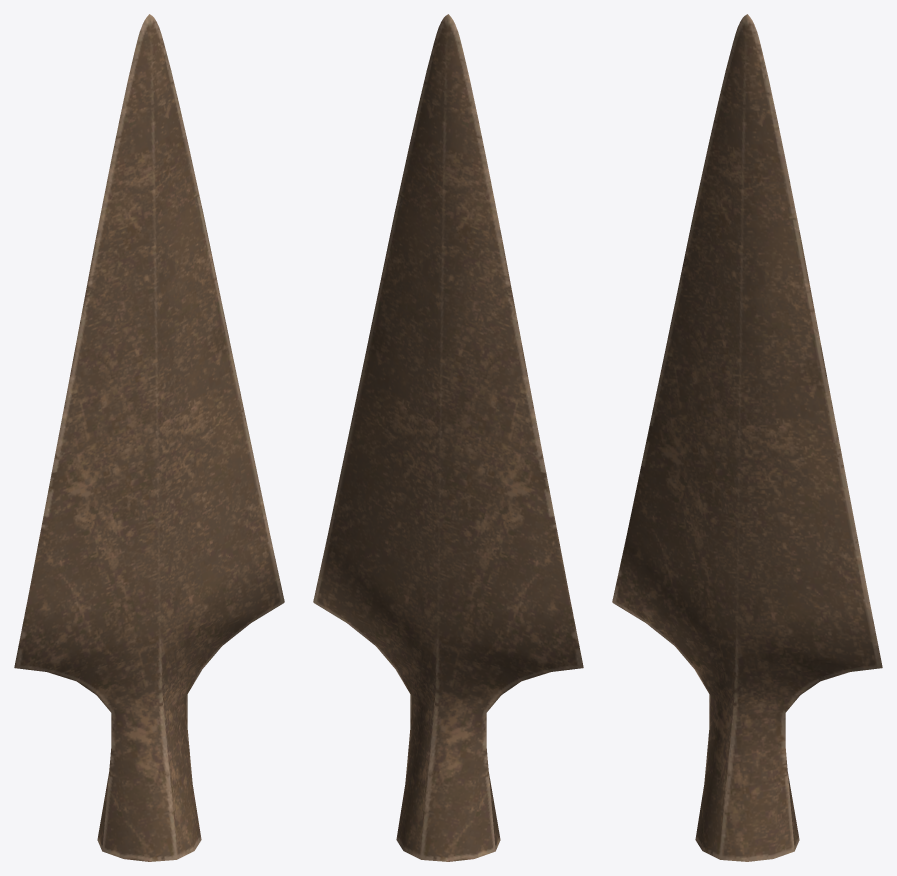
Rendered from dunland_caerdh_spear_head_d.fbx.
The picture shows the model from 3 angles, left to right: view 1: azimuth 30°, elevation 25°; view 2: azimuth 150°, elevation 25°; view 3: azimuth 330°, elevation 25°; orthographic projection.
Visible parts, largest first — view 1: dunland_caerdh_spear_head_d; view 2: dunland_caerdh_spear_head_d; view 3: dunland_caerdh_spear_head_d.
Part boxes in pixels (box(x1,y1,x2,y2)): dunland_caerdh_spear_head_d: box(14, 14, 284, 861); dunland_caerdh_spear_head_d: box(313, 14, 583, 861); dunland_caerdh_spear_head_d: box(612, 14, 882, 861).
Bounding box in the file's own units: 0.12 × 0.0419 × 0.35.
1 material, 1 textured.
